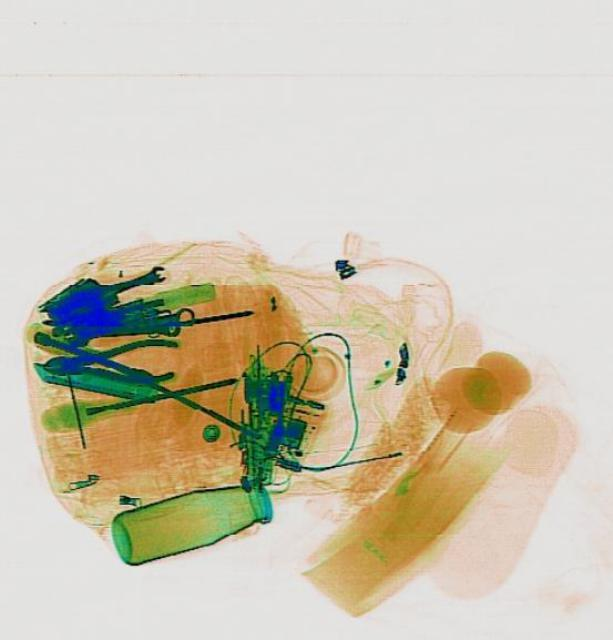Pliers: (38, 334, 179, 388)
Wrench: (95, 259, 169, 299)
